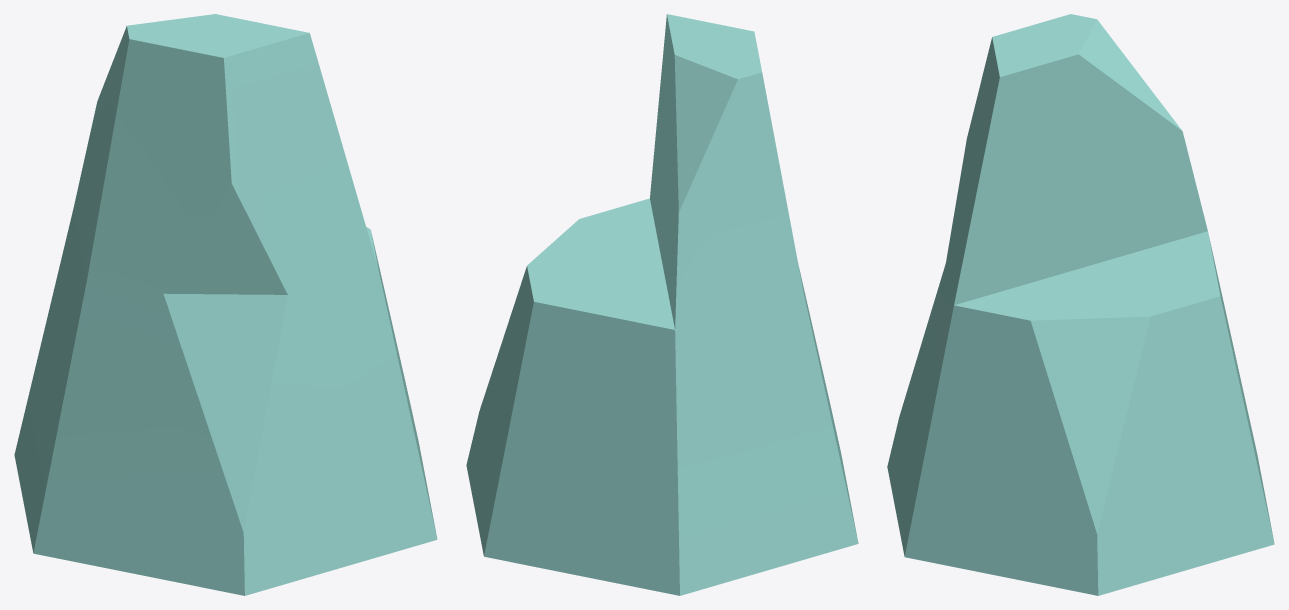
The model's file is rock_tall10.fbx.
3 renders of one model, left to right at view 1: azimuth 30°, elevation 25°; view 2: azimuth 150°, elevation 25°; view 3: azimuth 270°, elevation 25°, orthographic. The views are drawn at different scales.
Visible parts, largest first — view 1: rock_tall10; view 2: rock_tall10; view 3: rock_tall10.
Part boxes in pixels (x1,y1,x2,y2): rock_tall10: (14,14,437,595); rock_tall10: (466,14,858,595); rock_tall10: (887,14,1274,595).
Size of the model in its own units: 161 by 186 by 146.
